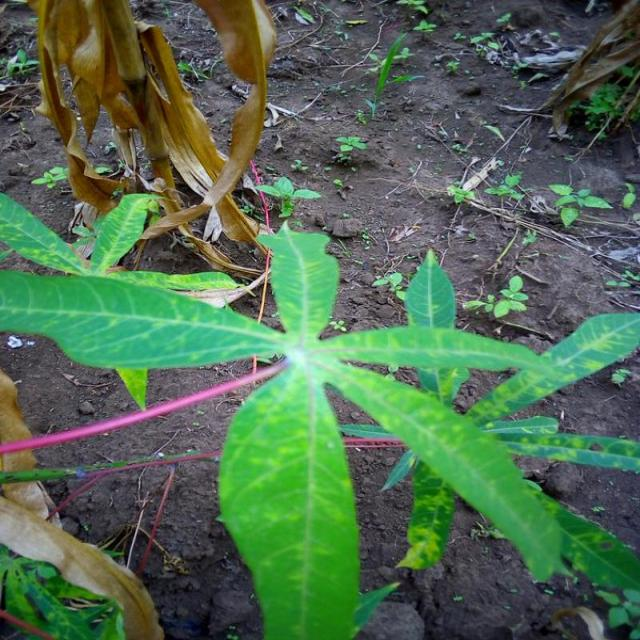cassava leaf: (0, 195, 639, 637)
